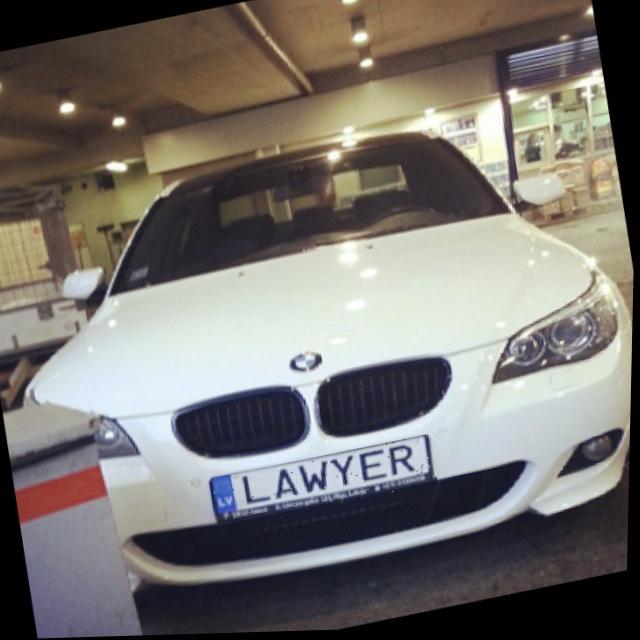license_plate: (212, 436, 441, 529)
